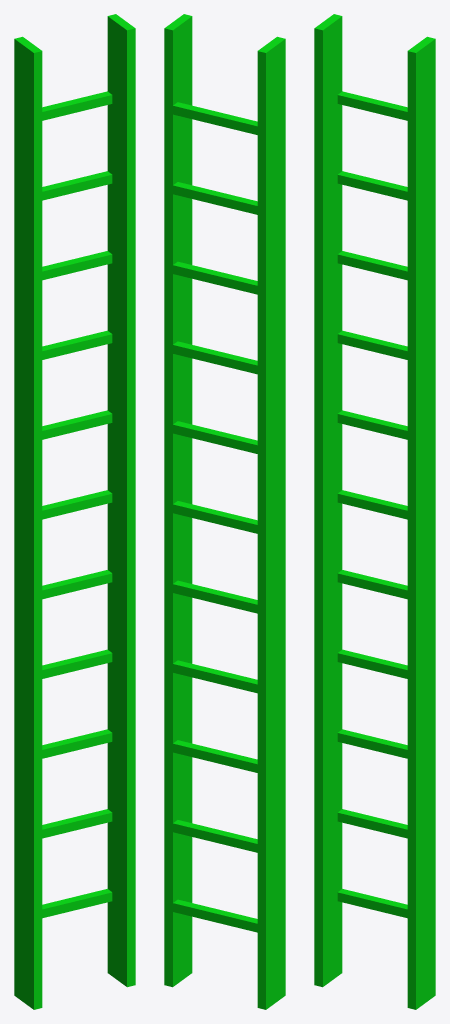
Rendered from Ele2.glb.
The picture shows the model from 3 angles, left to right: view 1: azimuth 30°, elevation 25°; view 2: azimuth 150°, elevation 25°; view 3: azimuth 330°, elevation 25°; orthographic projection.
Parts seen in each view (by area): view 1: Bandeja de cables con uniones Ladder Cable Tray [296891]; view 2: Bandeja de cables con uniones Ladder Cable Tray [296891]; view 3: Bandeja de cables con uniones Ladder Cable Tray [296891].
Boxes of the visible parts, left/top/right/bottom form: Bandeja de cables con uniones Ladder Cable Tray [296891]: left=14, top=14, right=135, bottom=1009; Bandeja de cables con uniones Ladder Cable Tray [296891]: left=164, top=14, right=285, bottom=1009; Bandeja de cables con uniones Ladder Cable Tray [296891]: left=314, top=14, right=435, bottom=1009.
Size of the model in its own units: 0.3048 by 2.74 by 0.1016.
